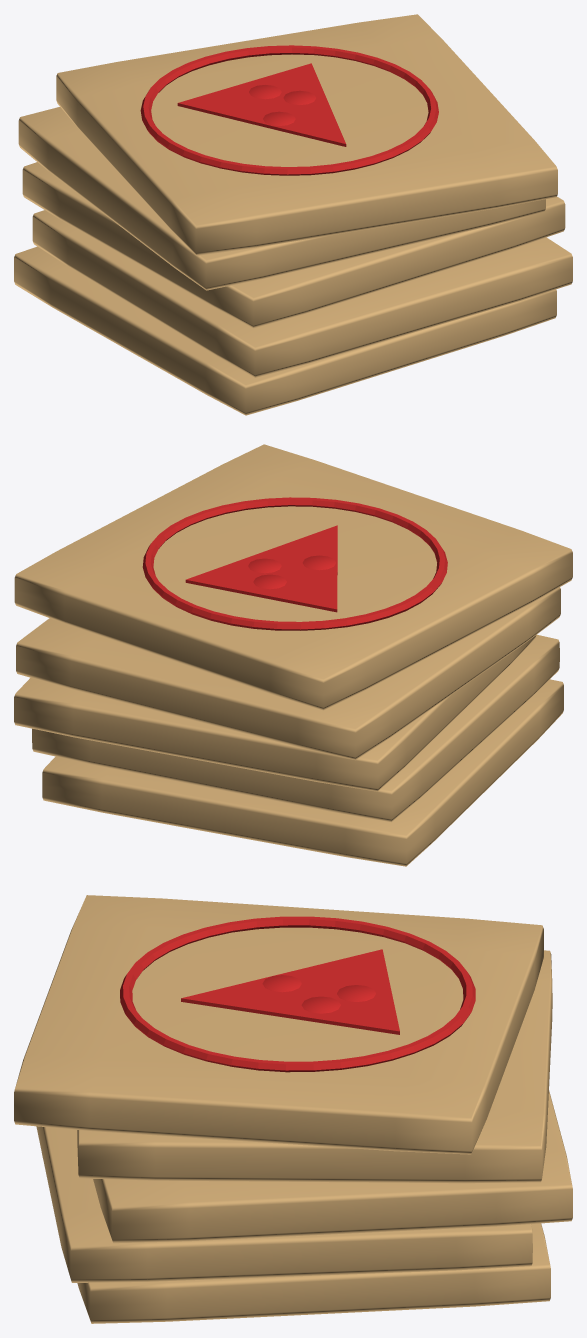
File: EatsaPizzaBoxes.obj
The picture shows the model from 3 angles, top to bottom: view 1: azimuth 30°, elevation 25°; view 2: azimuth 150°, elevation 25°; view 3: azimuth 270°, elevation 25°; orthographic projection. The views are drawn at different scales.
Parts seen in each view (by area): view 1: Box, Print, Dots; view 2: Box, Print, Dots; view 3: Box, Print, Dots.
Boxes of the visible parts, x1=… form: Box: x1=14, y1=14, x2=572, y2=415; Print: x1=140, y1=45, x2=438, y2=175; Dots: x1=249, y1=85, x2=315, y2=125; Box: x1=14, y1=444, x2=572, y2=866; Print: x1=142, y1=497, x2=447, y2=630; Dots: x1=248, y1=555, x2=335, y2=589; Box: x1=14, y1=895, x2=572, y2=1323; Print: x1=120, y1=916, x2=475, y2=1072; Dots: x1=262, y1=975, x2=375, y2=1013.
Bounding box in the file's own units: 6.95 × 3.28 × 7.15.
